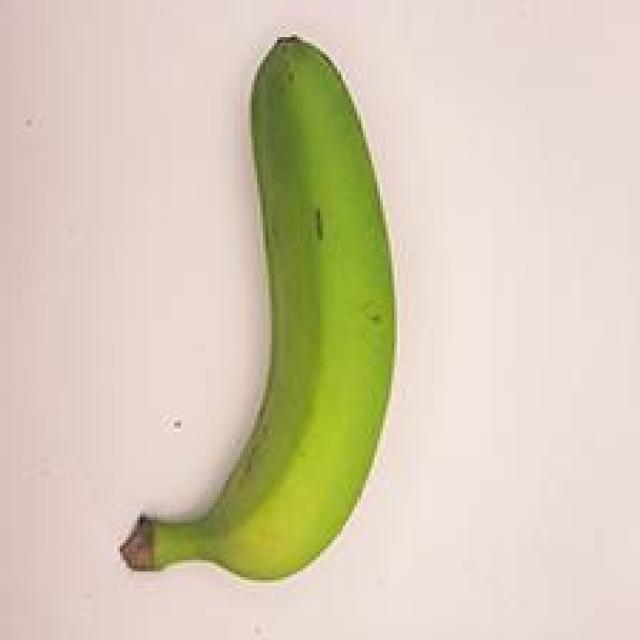Unripe: (96, 33, 430, 593)
